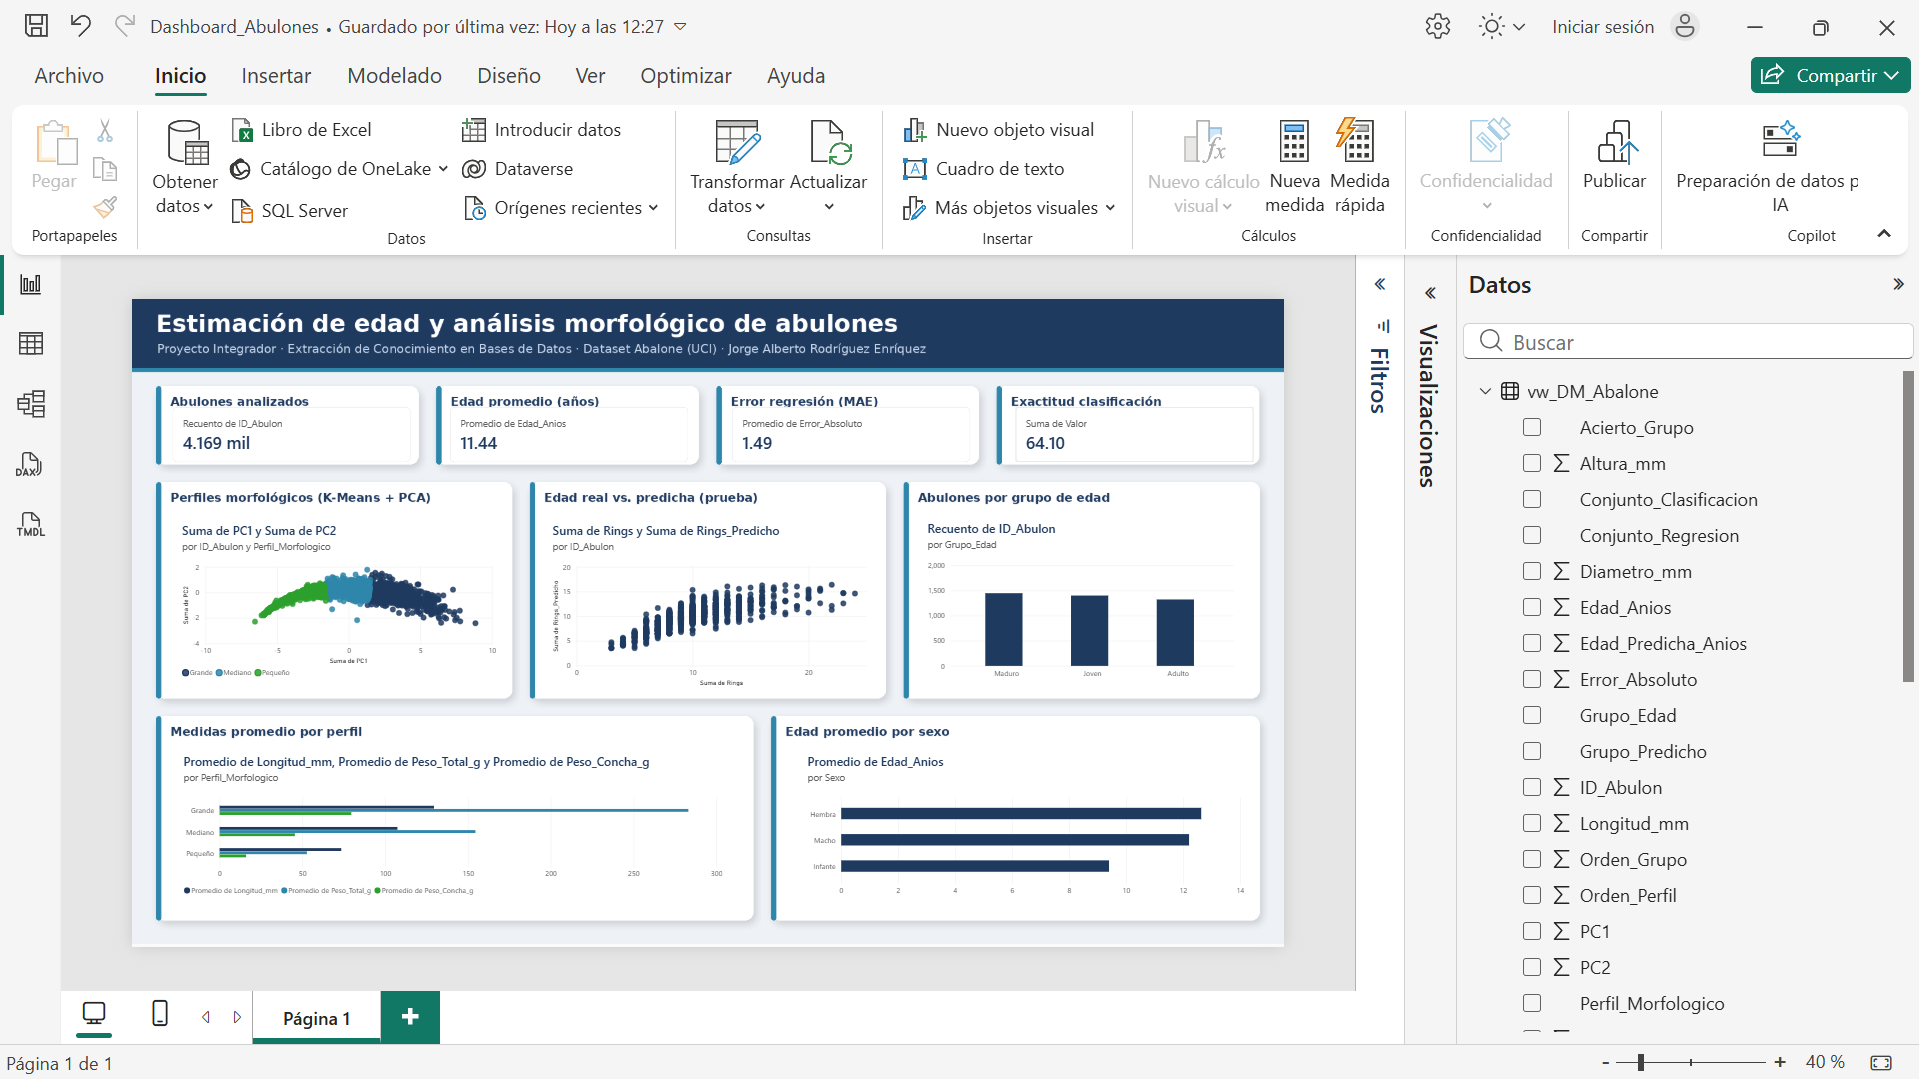

This screenshot's page, from the dashboard's own definition file:
{"tool":"powerbi","page":{"name":"Página 1","canvas":[1920,1080],"ordinal":0},"visuals":[{"type":"cardVisual","fields":{"Data":["CountNonNull(vw_DM_Abalone.ID_Abulon)"]},"box":[67.5,180,397.5,92.5],"z":0},{"type":"cardVisual","fields":{"Data":["Avg(vw_DM_Abalone.Edad_Anios)","Avg(vw_DM_Abalone.Edad_Anios)"]},"box":[530,180,397.5,92.5],"z":1000},{"type":"cardVisual","fields":{"Data":["Avg(vw_DM_Abalone.Error_Absoluto)"]},"box":[1000,180,397.5,92.5],"z":2000},{"type":"cardVisual","fields":{"Data":["Sum(vw_DM_Desempeno_Modelos.Valor)"]},"box":[1472.5,180,397.5,92.5],"z":3000},{"type":"scatterChart","fields":{"Category":["vw_DM_Abalone.ID_Abulon"],"Series":["vw_DM_Abalone.Perfil_Morfologico"],"X":["Sum(vw_DM_Abalone.PC1)"],"Y":["Sum(vw_DM_Abalone.PC2)"]},"box":[67.8,357.8,555.6,294.4],"z":3001},{"type":"scatterChart","fields":{"Category":["vw_DM_Abalone.ID_Abulon"],"X":["Sum(vw_DM_Abalone.Rings)"],"Y":["Sum(vw_DM_Abalone.Rings_Predicho)"]},"box":[684.4,357.8,562.2,303.3],"z":3002},{"type":"clusteredColumnChart","fields":{"Category":["vw_DM_Abalone.Grupo_Edad"],"Y":["CountNonNull(vw_DM_Abalone.ID_Abulon)"]},"box":[1310,355,542.5,297.5],"z":3003},{"type":"clusteredBarChart","fields":{"Category":["vw_DM_Resumen_Perfil.Perfil_Morfologico"],"Y":["Avg(vw_DM_Abalone.Longitud_mm)","Avg(vw_DM_Abalone.Peso_Total_g)","Avg(vw_DM_Abalone.Peso_Concha_g)"]},"box":[70,742.5,930,272.5],"z":3004},{"type":"clusteredBarChart","fields":{"Category":["vw_DM_Abalone.Sexo"],"Y":["Avg(vw_DM_Abalone.Edad_Anios)"]},"box":[1110,742.5,760,272.5],"z":3005}]}

Visuals, with their boxes on the page's 1920x1080 design canvas (x1, y1, x2, y2). These are canvas units, not pixel positions in the 1919x1079 screenshot, which may show the page scaled, cropped or inside an application window:
cardVisual - CountNonNull(vw_DM_Abalone.ID_Abulon): pyautogui.locateOnScreen(68, 180, 465, 272)
cardVisual - Avg(vw_DM_Abalone.Edad_Anios) x Avg(vw_DM_Abalone.Edad_Anios): pyautogui.locateOnScreen(530, 180, 928, 272)
cardVisual - Avg(vw_DM_Abalone.Error_Absoluto): pyautogui.locateOnScreen(1000, 180, 1398, 272)
cardVisual - Sum(vw_DM_Desempeno_Modelos.Valor): pyautogui.locateOnScreen(1472, 180, 1870, 272)
scatterChart - vw_DM_Abalone.ID_Abulon x vw_DM_Abalone.Perfil_Morfologico: pyautogui.locateOnScreen(68, 358, 623, 652)
scatterChart - vw_DM_Abalone.ID_Abulon x Sum(vw_DM_Abalone.Rings): pyautogui.locateOnScreen(684, 358, 1247, 661)
clusteredColumnChart - vw_DM_Abalone.Grupo_Edad x CountNonNull(vw_DM_Abalone.ID_Abulon): pyautogui.locateOnScreen(1310, 355, 1852, 652)
clusteredBarChart - vw_DM_Resumen_Perfil.Perfil_Morfologico x Avg(vw_DM_Abalone.Longitud_mm): pyautogui.locateOnScreen(70, 742, 1000, 1015)
clusteredBarChart - vw_DM_Abalone.Sexo x Avg(vw_DM_Abalone.Edad_Anios): pyautogui.locateOnScreen(1110, 742, 1870, 1015)
